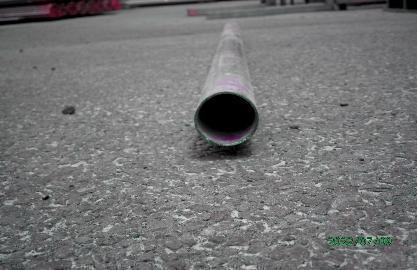pipe: (195, 90, 259, 147)
